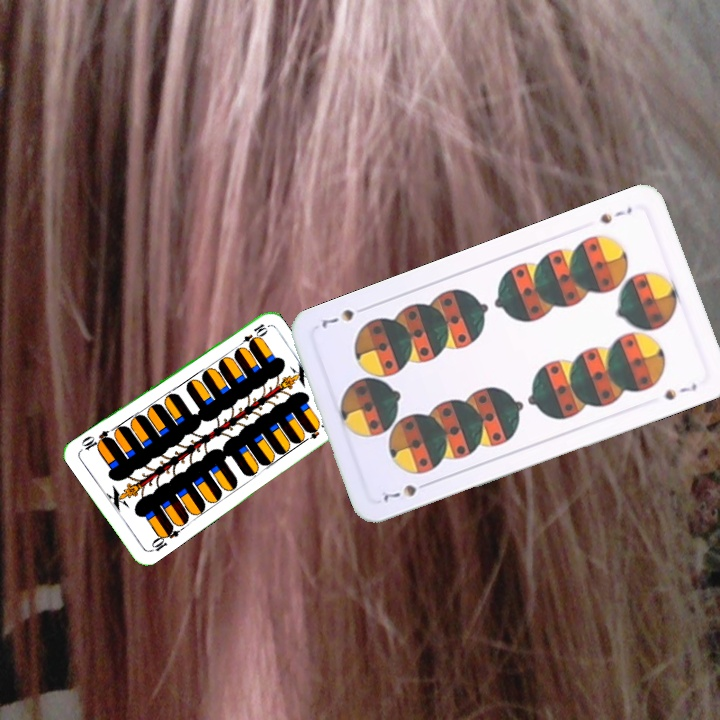E10: (146, 522, 182, 554), (233, 320, 270, 351)
S7: (379, 477, 433, 504), (595, 203, 635, 227)
